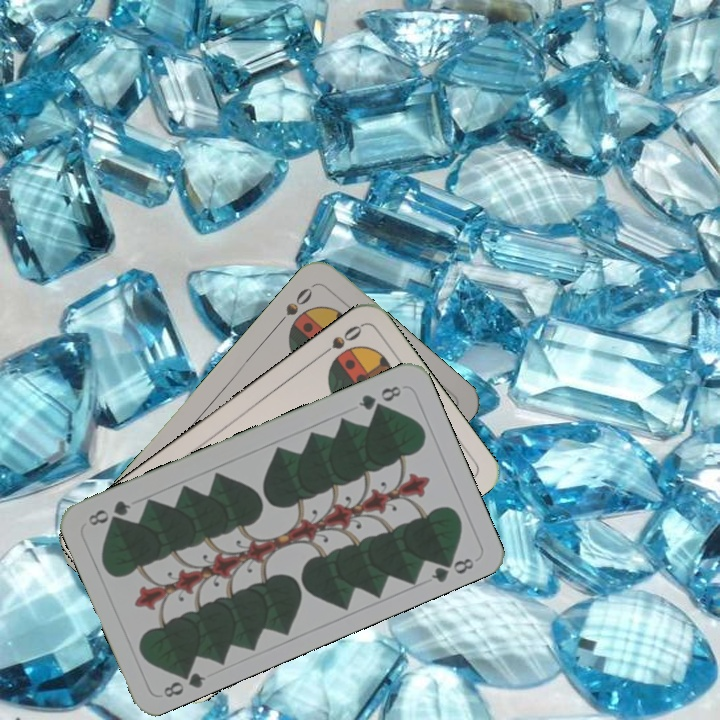G8: (159, 663, 209, 701), (354, 381, 404, 413)
SO: (313, 320, 365, 361), (273, 281, 317, 329)
